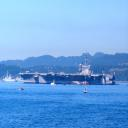Portanaves: (21, 53, 119, 86)
